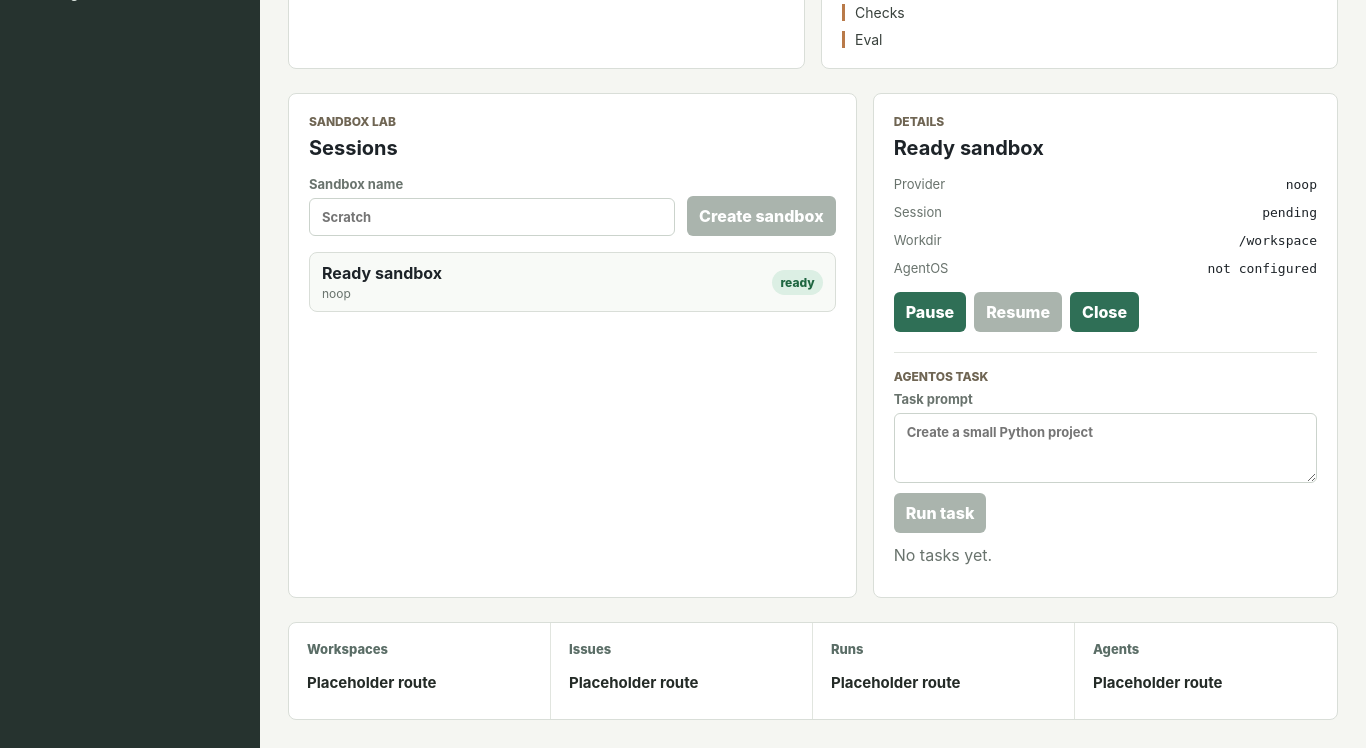
it: App › starts a sandbox task and shows task events
The width and height of the screenshot is (1366, 748).
(page scrolled)
Expected: the text "Ready sandbox" is shown 2 times, top-left (322, 263), bottom-right (442, 283); top-left (894, 136), bottom-right (1044, 160)
Type "create a file" into the text box labelled "Task prompt" at (1105, 448), box top-left (894, 413), bottom-right (1317, 483)
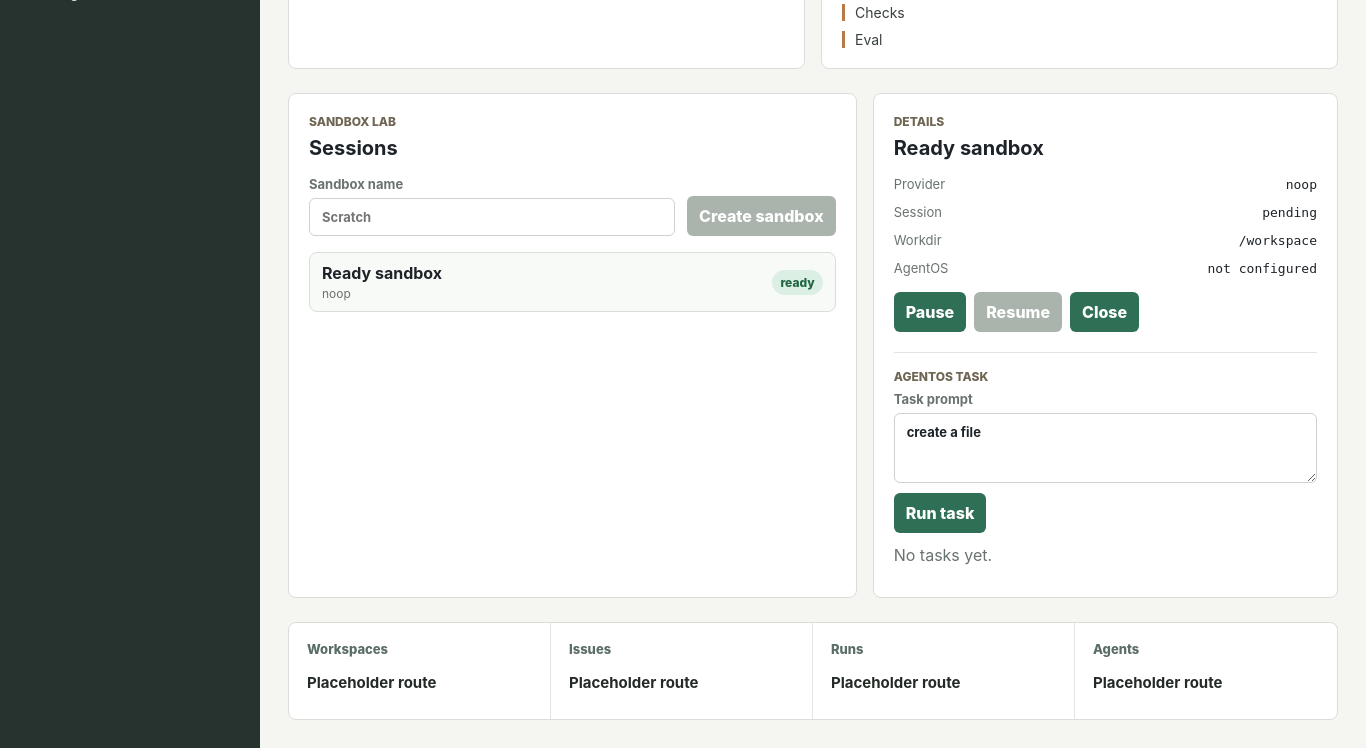
Click the button "Run task" at (940, 513), box top-left (894, 493), bottom-right (986, 533)
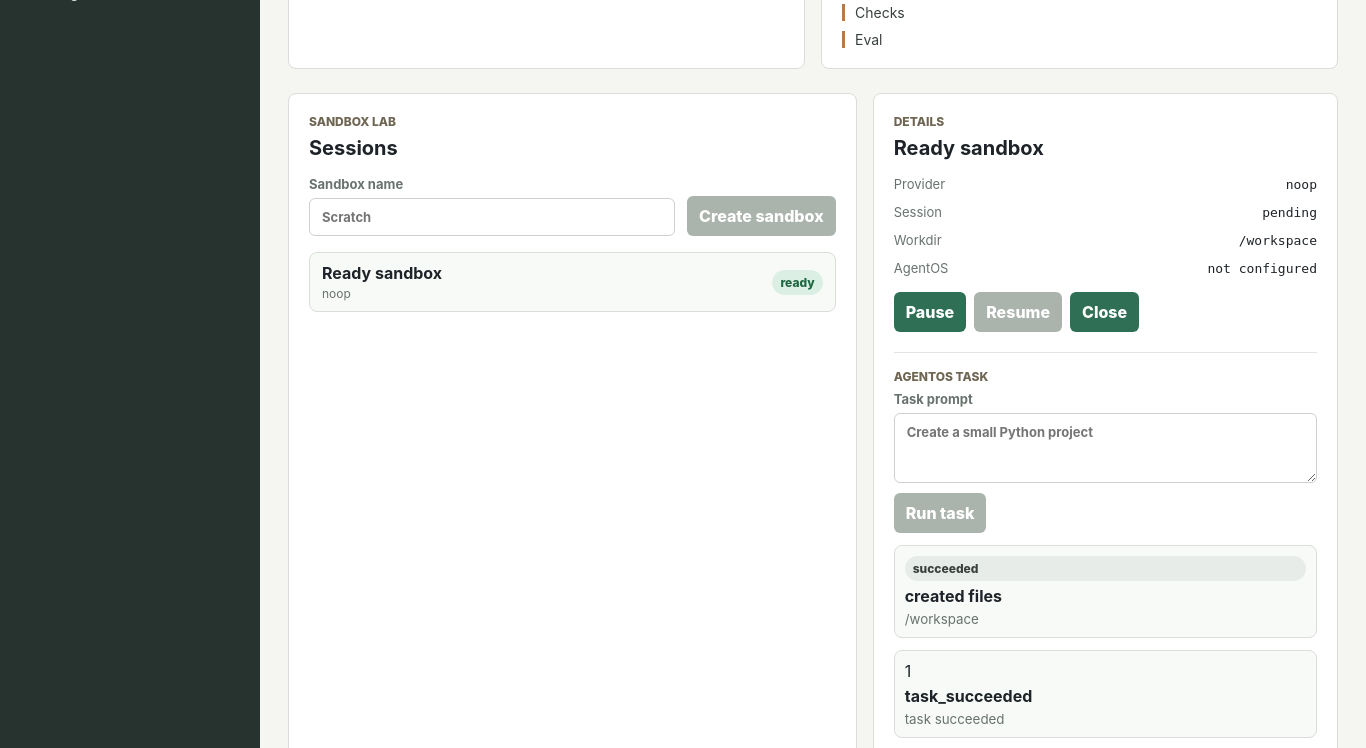
Now the text "created files" is shown, box top-left (905, 586), bottom-right (1002, 606)
Now the text "task_succeeded" is shown, box top-left (905, 686), bottom-right (1032, 706)
